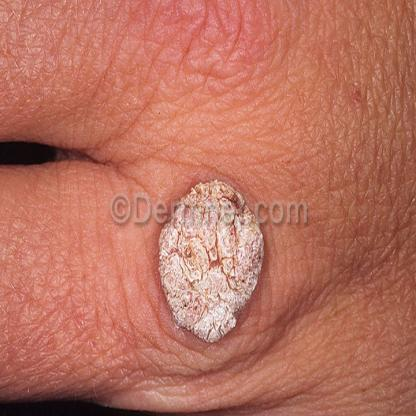Warts: (152, 228, 274, 350)
